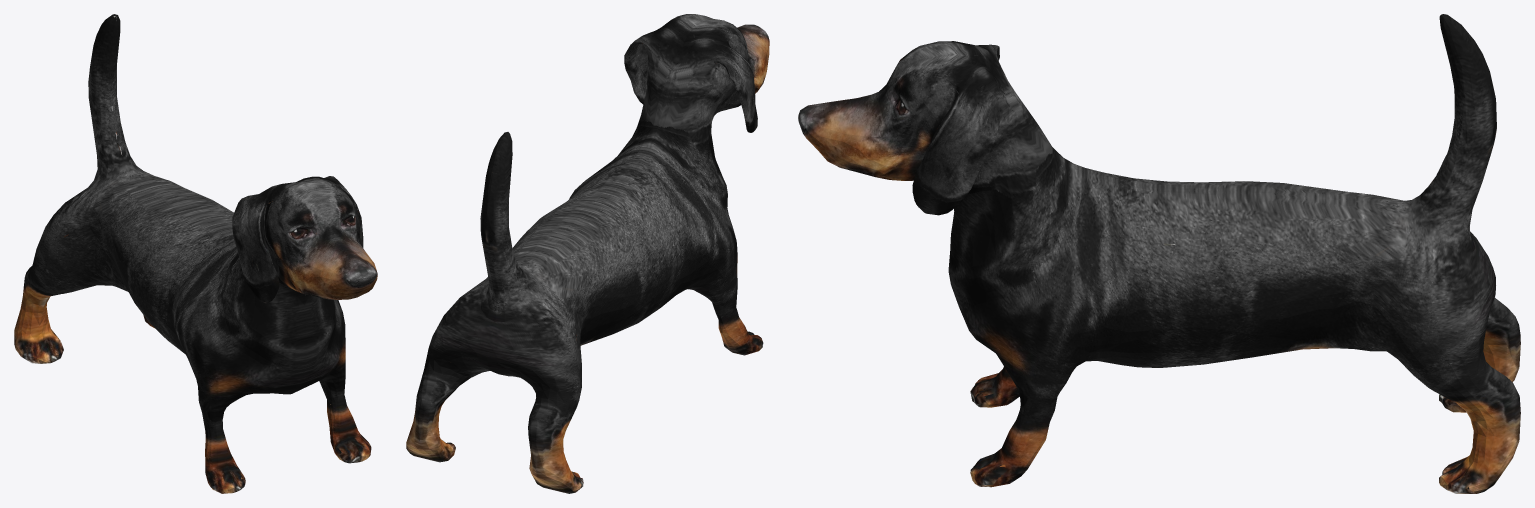
Rendered from Dachshund.fbx.
The picture shows the model from 3 angles, left to right: view 1: azimuth 30°, elevation 25°; view 2: azimuth 150°, elevation 25°; view 3: azimuth 270°, elevation 25°; orthographic projection. The views are drawn at different scales.
Parts seen in each view (by area): view 1: FBX.001; view 2: FBX.001; view 3: FBX.001.
Part boxes in pixels (x1,y1,x2,y2): FBX.001: [14, 14, 377, 493]; FBX.001: [406, 14, 769, 493]; FBX.001: [798, 14, 1520, 493].
Bounding box in the file's own units: 225 × 428 × 652.
Materials: 1 (1 with a texture image).
